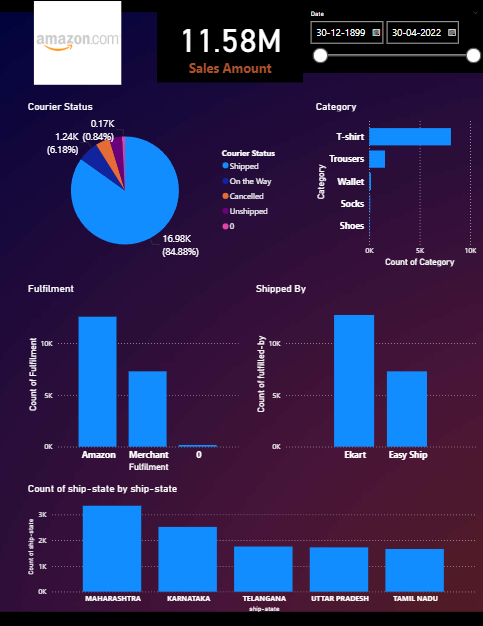

The dashboard page shown, as its layout file describes it:
{"tool":"powerbi","page":{"name":"Page 1","canvas":[816,1056],"ordinal":0},"visuals":[{"type":"image","box":[0,0,265.7,150.4],"z":0},{"type":"card","fields":{"Values":["Sum(Amazon Sale Report.Amount)"]},"box":[265.6,15.6,244.4,125.6],"z":1000},{"type":"slicer","fields":{"Values":["Amazon Sale Report.Date"]},"box":[510,15.6,305.6,110],"z":2000},{"type":"barChart","title":"Category","fields":{"Category":["Amazon Sale Report.Category"],"Y":["CountNonNull(Amazon Sale Report.Category)"]},"box":[526.7,170,277.8,283.3],"z":3000},{"type":"pieChart","title":"Courier Status","fields":{"Category":["Amazon Sale Report.Courier Status"],"Y":["CountNonNull(Amazon Sale Report.Courier Status)"]},"box":[45.6,170,438.9,283.3],"z":4000},{"type":"columnChart","title":"Fulfilment","fields":{"Category":["Amazon Sale Report.Fulfilment"],"Y":["CountNonNull(Amazon Sale Report.Fulfilment)"]},"box":[45.6,474.4,362.2,322.2],"z":5000},{"type":"columnChart","title":"Shipped By","fields":{"Category":["Amazon Sale Report.fulfilled-by"],"Y":["CountNonNull(Amazon Sale Report.fulfilled-by)"]},"box":[425.6,474.4,378.9,322.2],"z":6000},{"type":"clusteredColumnChart","fields":{"Category":["Amazon Sale Report.ship-state"],"Y":["CountNonNull(Amazon Sale Report.ship-state)"]},"box":[45.6,808.9,758.9,222.2],"z":7000}]}

Visuals, with their boxes in screenshot pixels (x1, y1, x2, y2), scaled from the page's 816x1056 canvas onto the 483x626 screenshot:
image: (x1=0, y1=0, x2=157, y2=89)
card - Sum(Amazon Sale Report.Amount): (x1=157, y1=9, x2=302, y2=84)
slicer - Amazon Sale Report.Date: (x1=302, y1=9, x2=482, y2=74)
"Category" barChart: (x1=312, y1=101, x2=476, y2=269)
"Courier Status" pieChart: (x1=27, y1=101, x2=287, y2=269)
"Fulfilment" columnChart: (x1=27, y1=281, x2=241, y2=472)
"Shipped By" columnChart: (x1=252, y1=281, x2=476, y2=472)
clusteredColumnChart - Amazon Sale Report.ship-state x CountNonNull(Amazon Sale Report.ship-state): (x1=27, y1=480, x2=476, y2=611)
